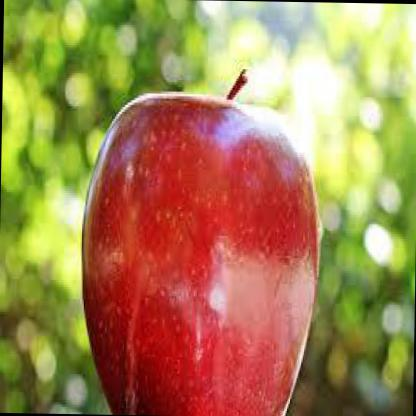apple: (74, 56, 326, 416)
